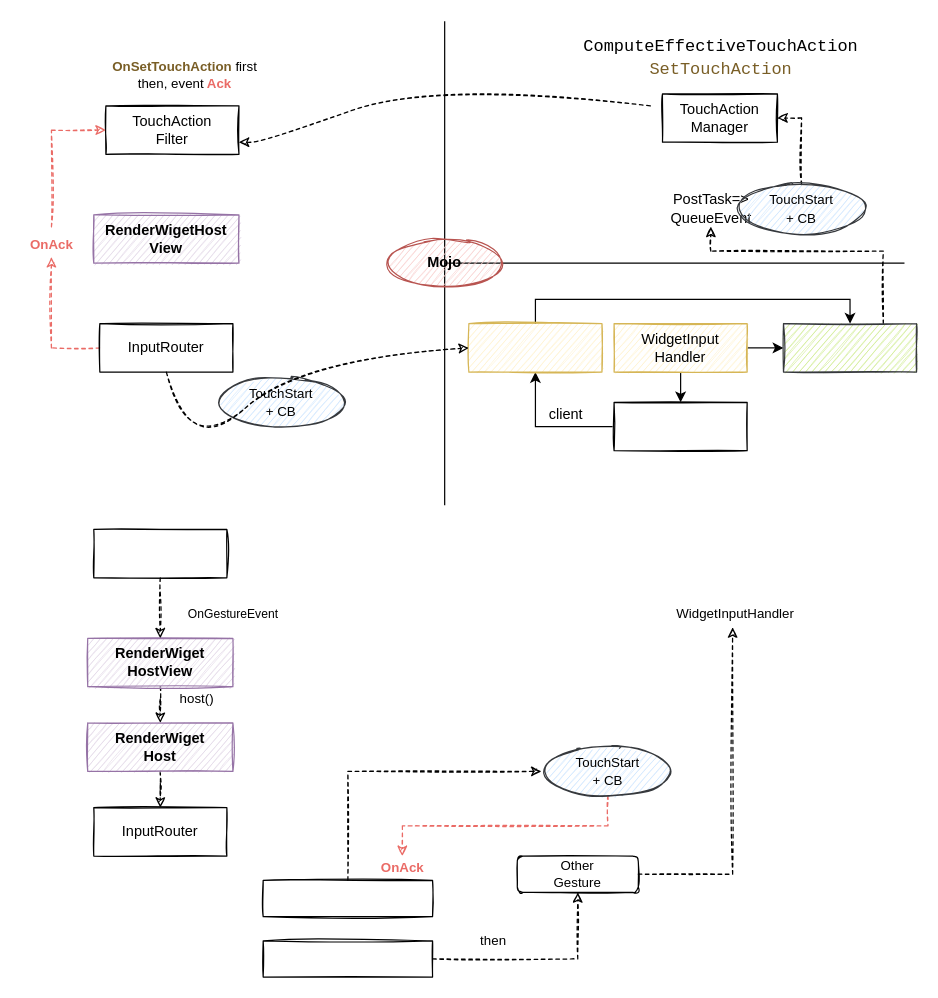
Some shapes in this 938 by 998 pixel diagram are drawn without their labels. The centre of each missing label's shape, as x and y in pixels:
GestureEventQueue: the point at 347,958
GestureListener and Provider: the point at 160,553
InputHandler Proxy: the point at 680,426
MainThread EventQueue: the point at 849,347
TouchEventQueue: the point at 347,898
WidgetInput Manager: the point at 535,347
